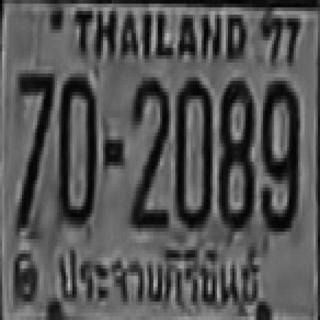N00: (173, 75, 210, 226), (57, 72, 94, 223)
N02: (128, 75, 168, 226)
N07: (14, 70, 54, 228)
N08: (217, 77, 252, 228)
N09: (261, 77, 298, 228)
P50: (49, 236, 270, 316)
